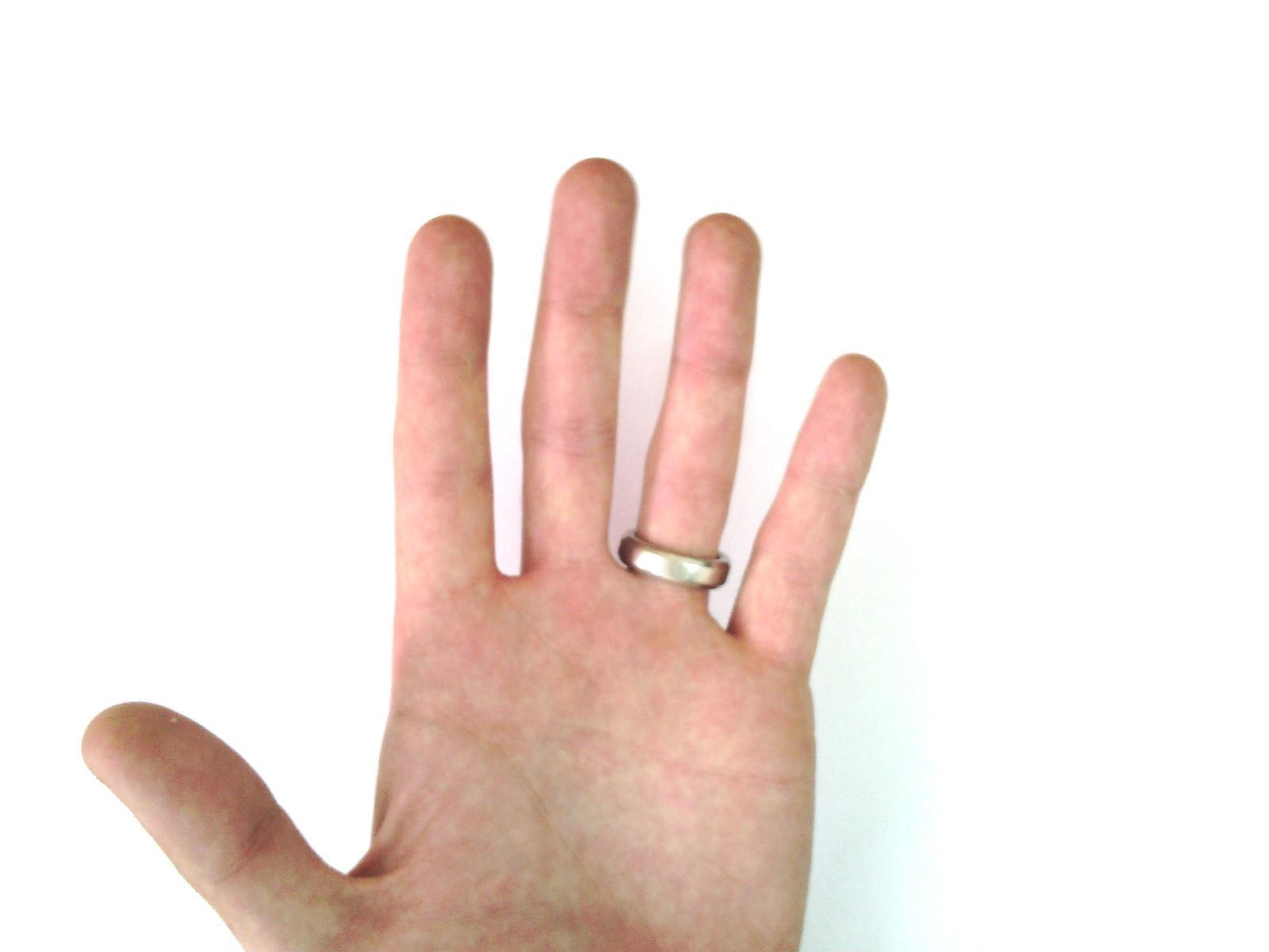open_palm: (80, 156, 891, 952)
